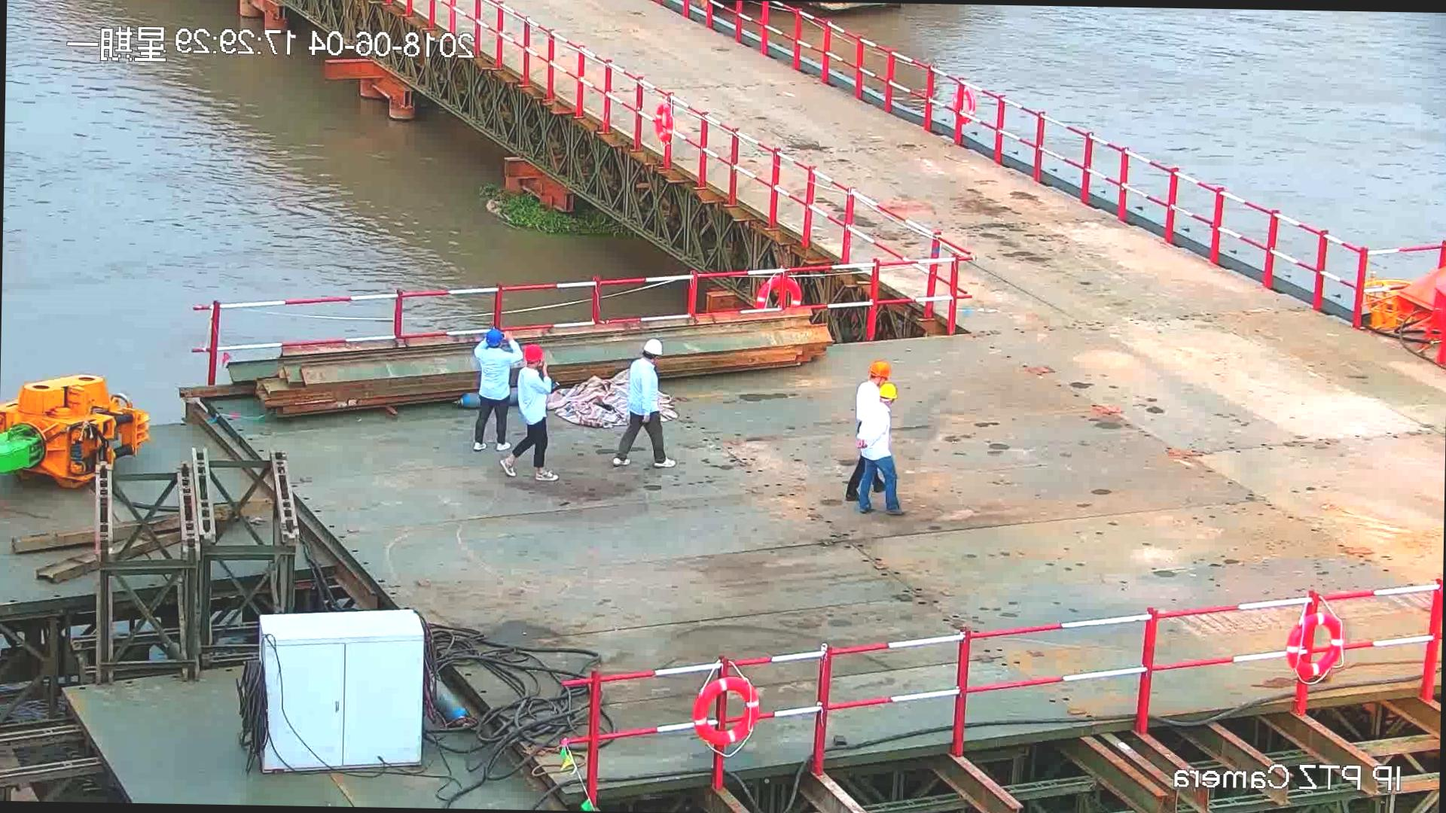helmet: (861, 356, 896, 388), (639, 336, 670, 363), (522, 344, 547, 372), (877, 382, 899, 407)
no_vest: (472, 345, 514, 404), (856, 408, 896, 464), (623, 361, 661, 418), (516, 368, 549, 428)
person: (606, 326, 678, 473), (500, 336, 559, 486), (462, 322, 519, 452), (854, 379, 905, 518)
